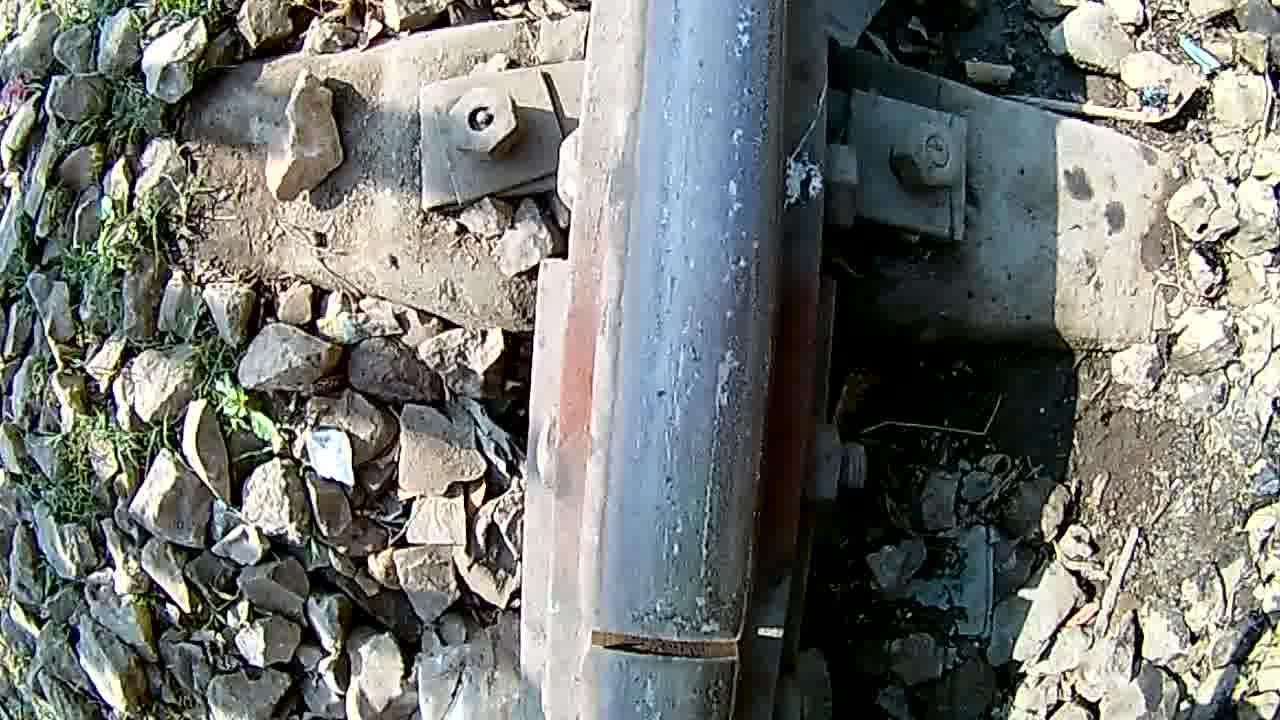clip_missing: (616, 9, 781, 591)
